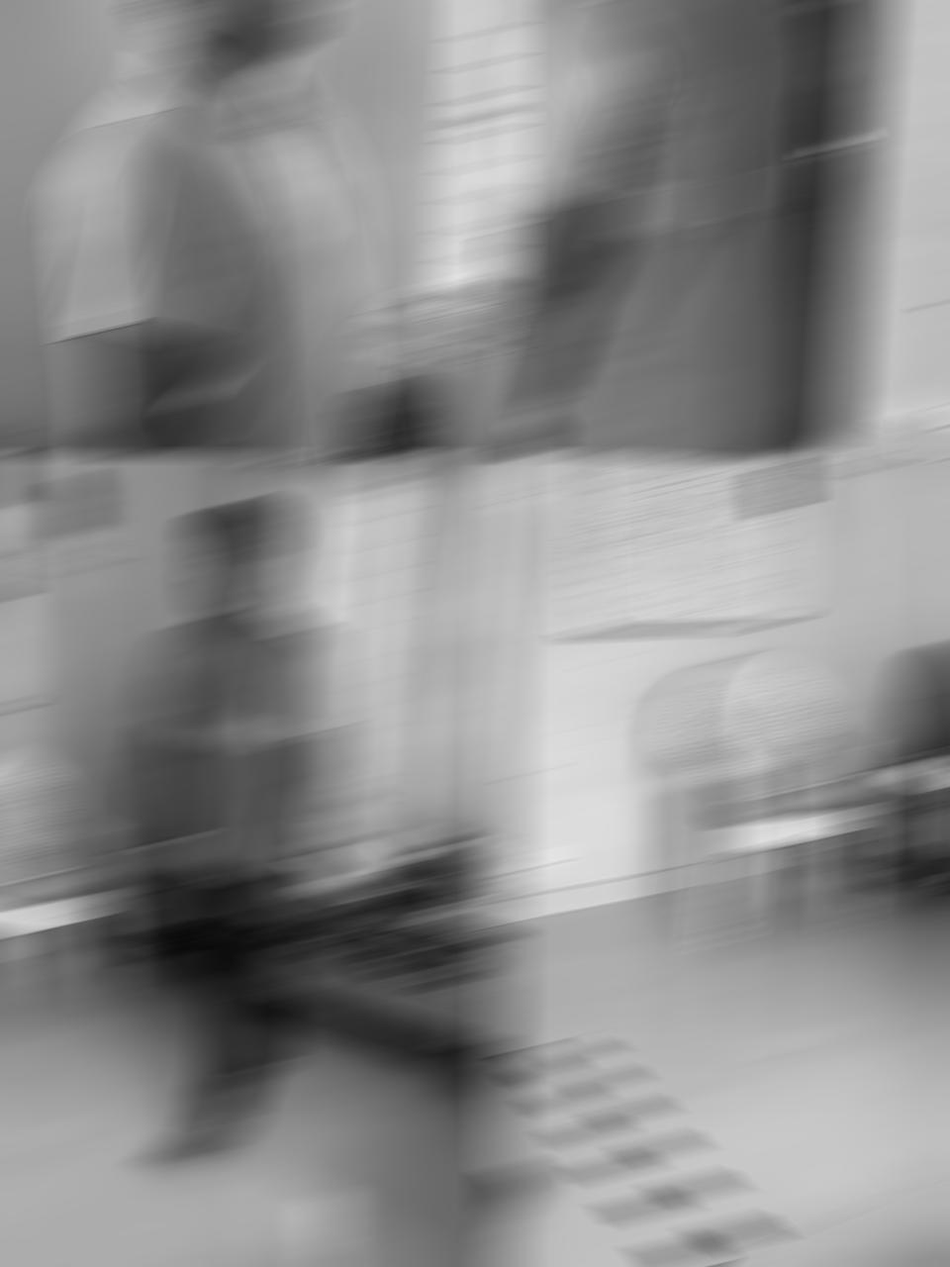BorderLine: (507, 1034, 826, 1265)
No_Helmet: (104, 2, 336, 61), (186, 497, 293, 608)
No_Vest: (54, 40, 364, 453)
Person: (491, 2, 838, 453), (54, 2, 400, 453), (128, 500, 348, 1168), (491, 487, 544, 1263)
Vest: (521, 2, 840, 453), (152, 608, 336, 881)
